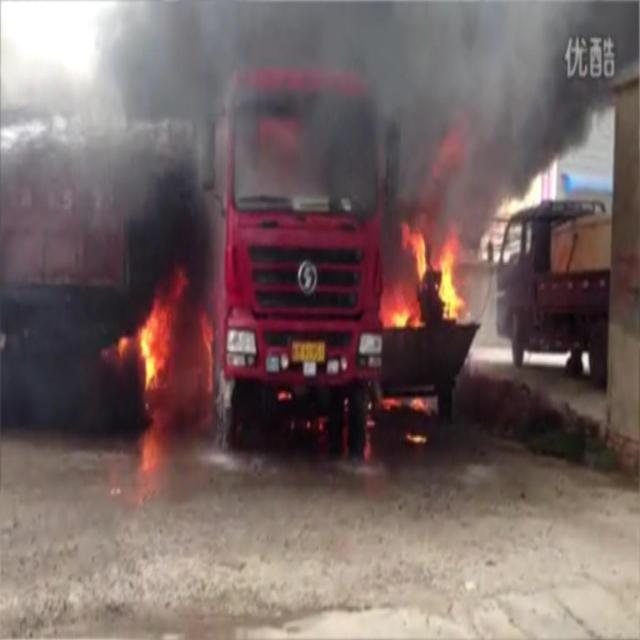Fire: (380, 220, 466, 330), (116, 266, 190, 389), (198, 307, 215, 395), (380, 393, 428, 412), (405, 428, 428, 445)
Smoke: (69, 0, 640, 257)
